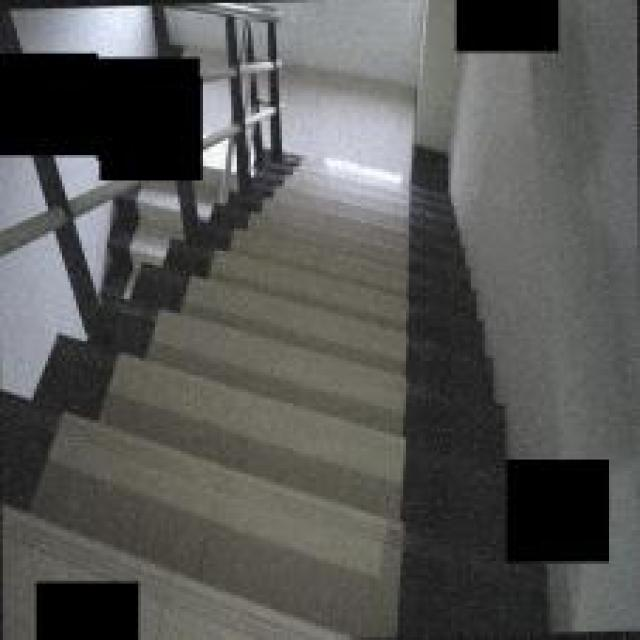downstair: (180, 232, 462, 634)
